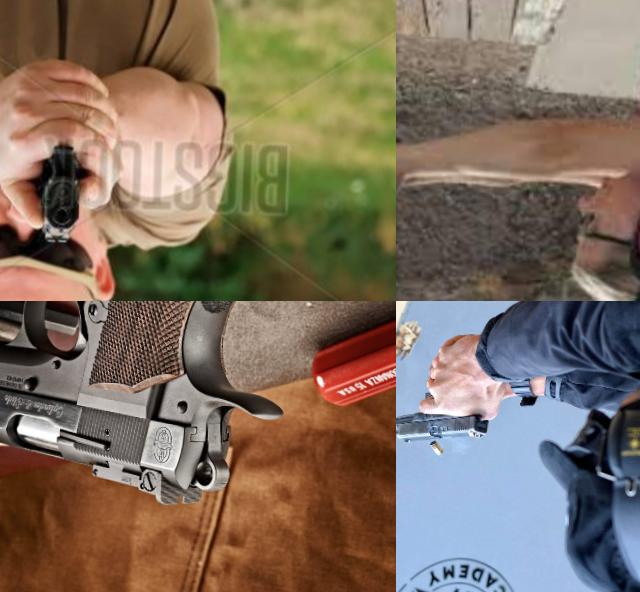handgun: (0, 301, 301, 514), (396, 375, 492, 446), (31, 126, 85, 247), (396, 126, 462, 225)
